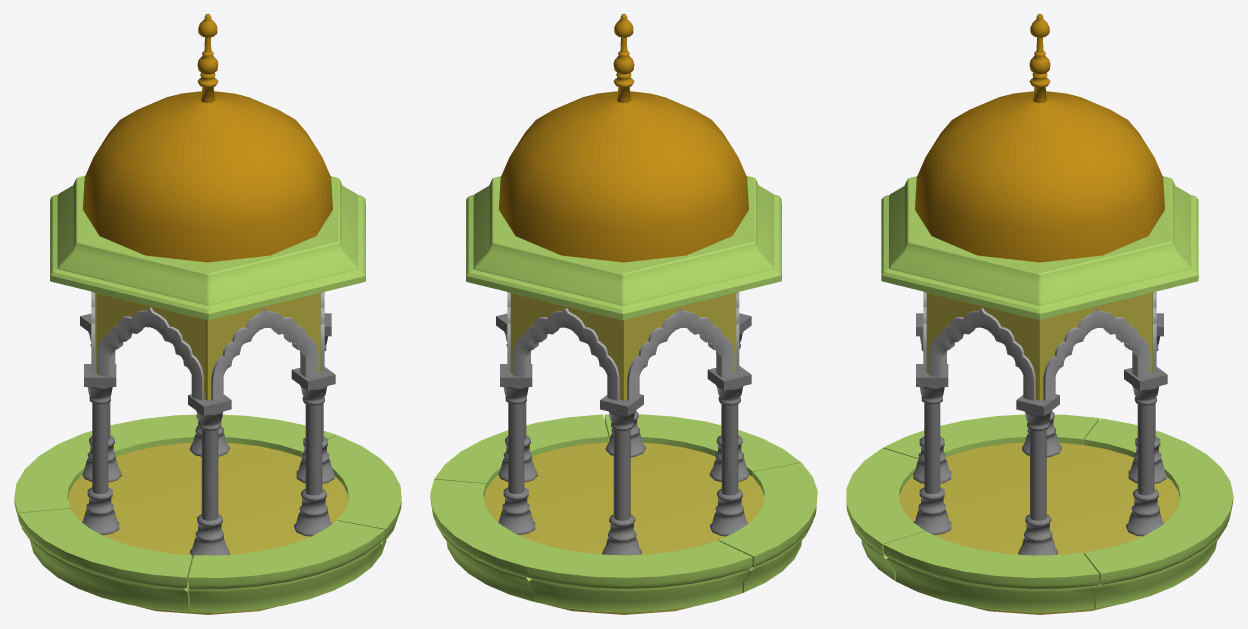
The model's file is SM_pavilion_india.fbx.
3 renders of one model, left to right at view 1: azimuth 30°, elevation 25°; view 2: azimuth 150°, elevation 25°; view 3: azimuth 270°, elevation 25°, orthographic.
Parts seen in each view (by area): view 1: Minaret001; view 2: Minaret001; view 3: Minaret001.
Boxes of the visible parts, x1,y1,x2,y2 form: Minaret001: [14, 14, 401, 614]; Minaret001: [430, 14, 817, 614]; Minaret001: [846, 14, 1233, 614].
Bounding box in the file's own units: 170 × 259 × 169.
